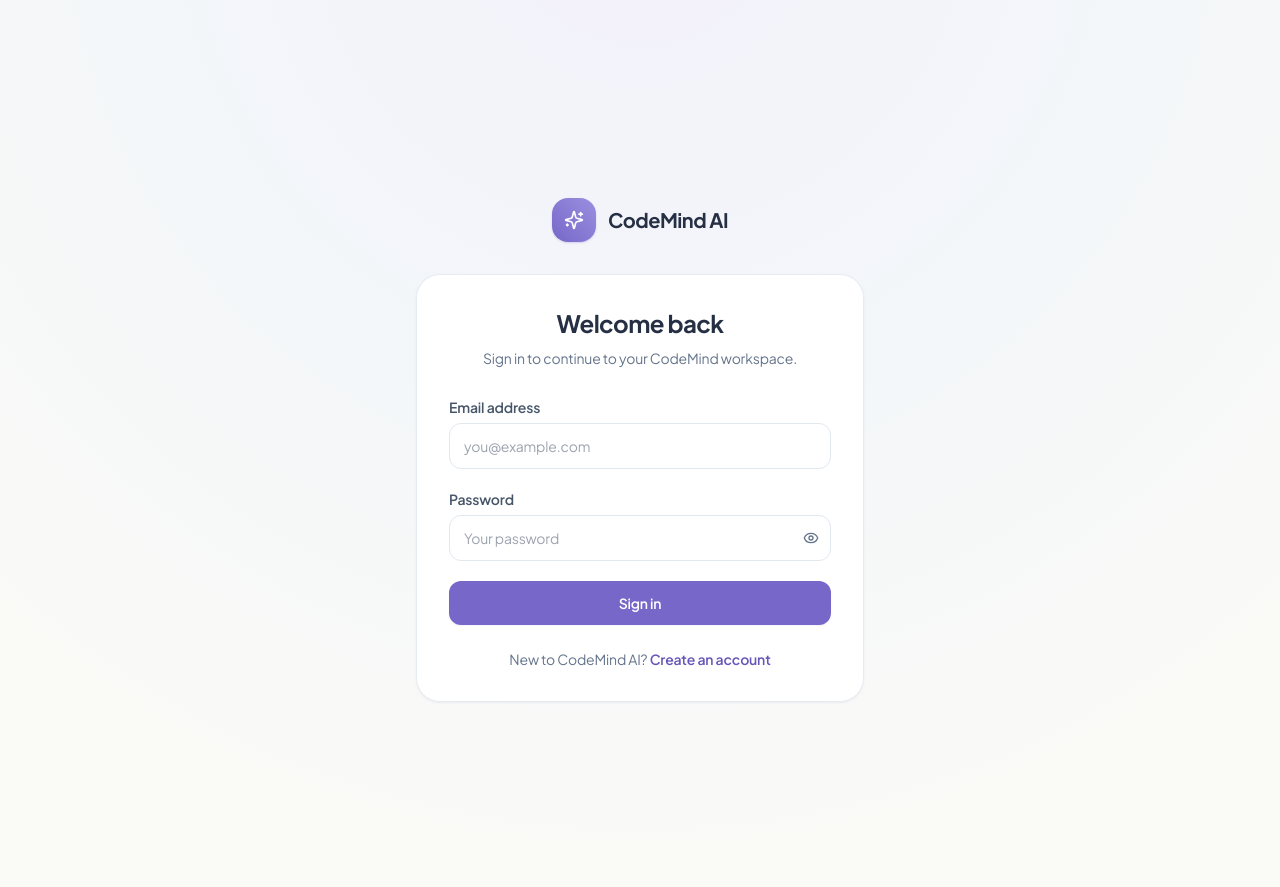
it: App › registers and navigates to the protected dashboard
Click the link "Create an account".
click(710, 659)  # box x1=650 y1=650 x2=771 y2=668
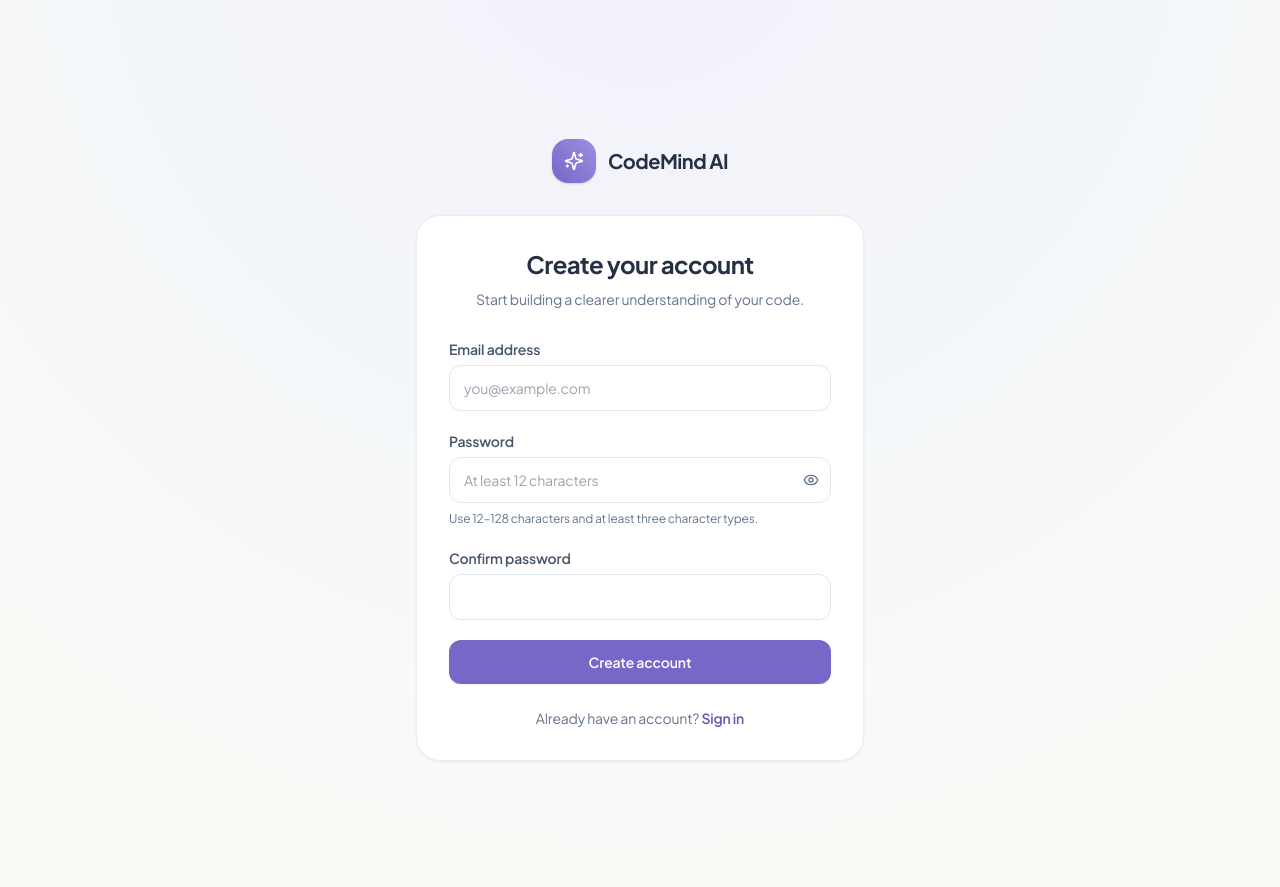
Type "new@example.test" into the field labelled "Email address".
click(640, 388); type("new@example.test")  # box x1=449 y1=365 x2=831 y2=411
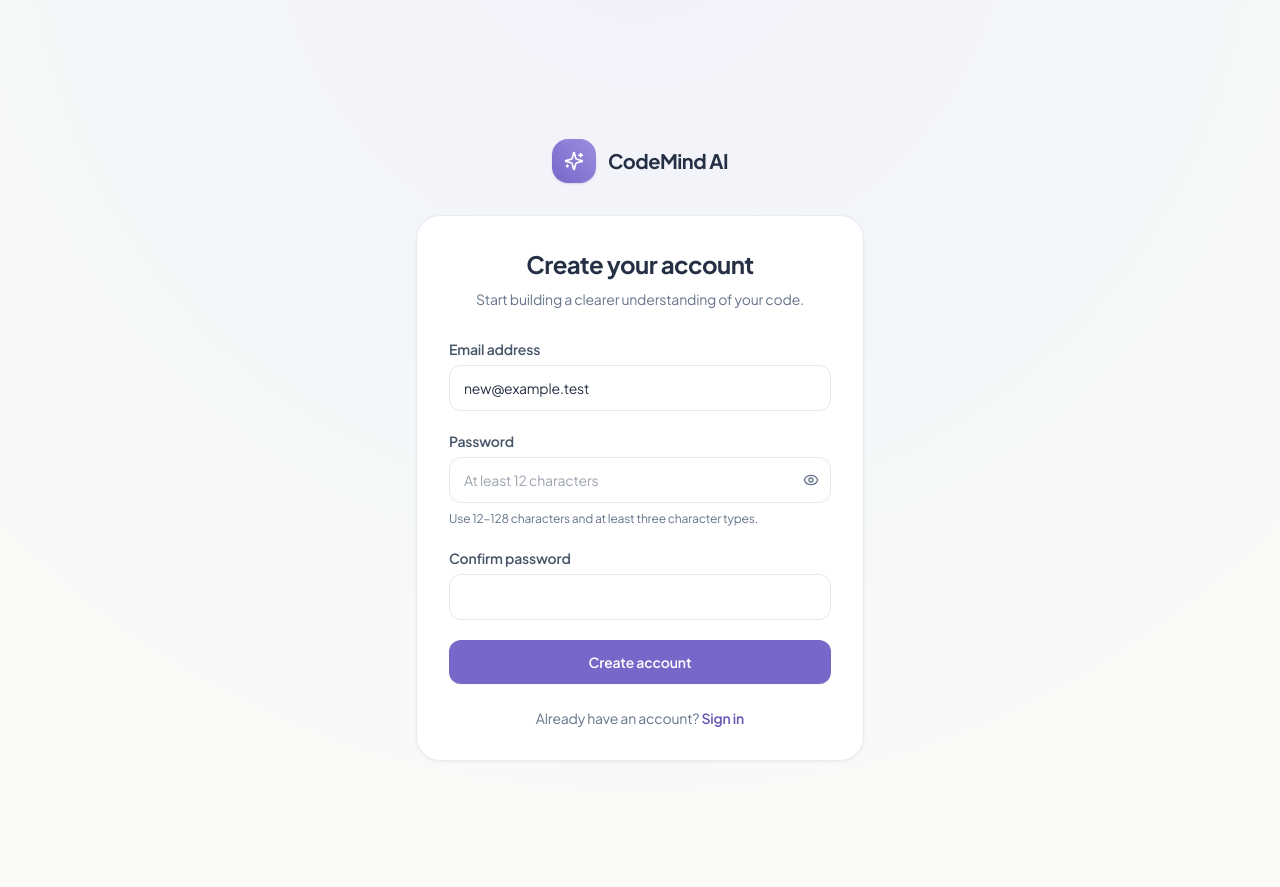
Type "StrongPassword123!" into the password field labelled "Password".
click(640, 480); type("StrongPassword123!")  # box x1=449 y1=457 x2=831 y2=503
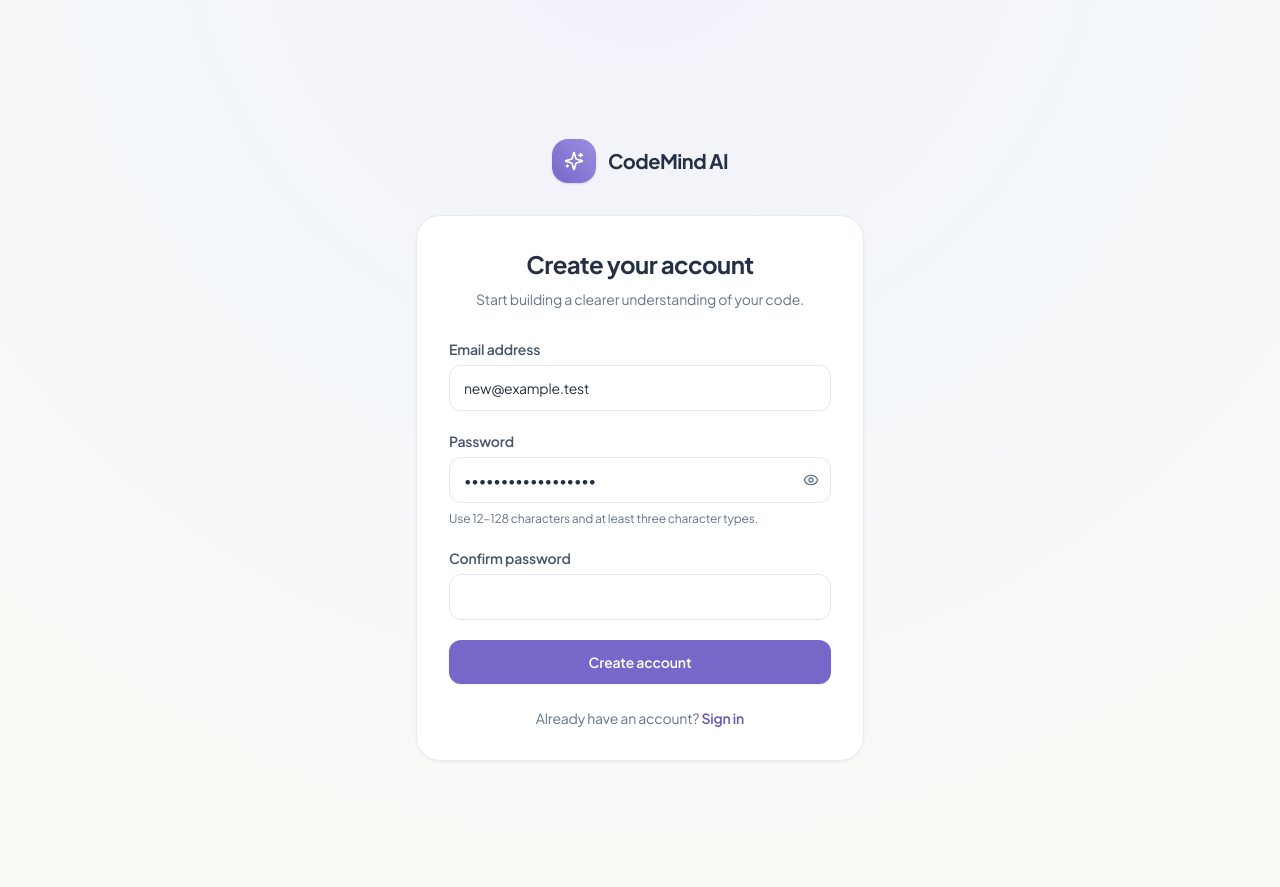
Type "StrongPassword123!" into the password field labelled "Confirm password".
click(640, 597); type("StrongPassword123!")  # box x1=449 y1=574 x2=831 y2=620
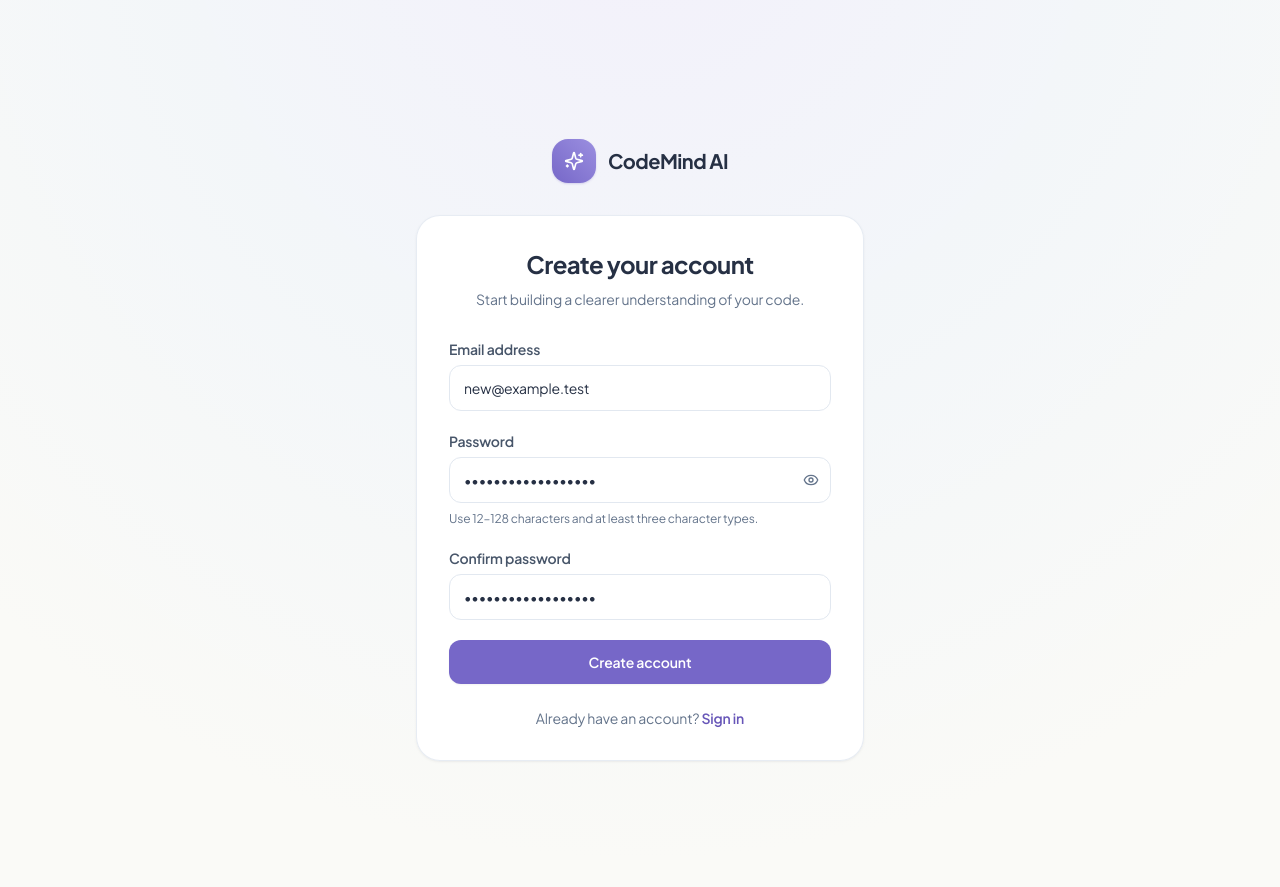
Click the button "Create account".
click(640, 662)  # box x1=449 y1=640 x2=831 y2=684
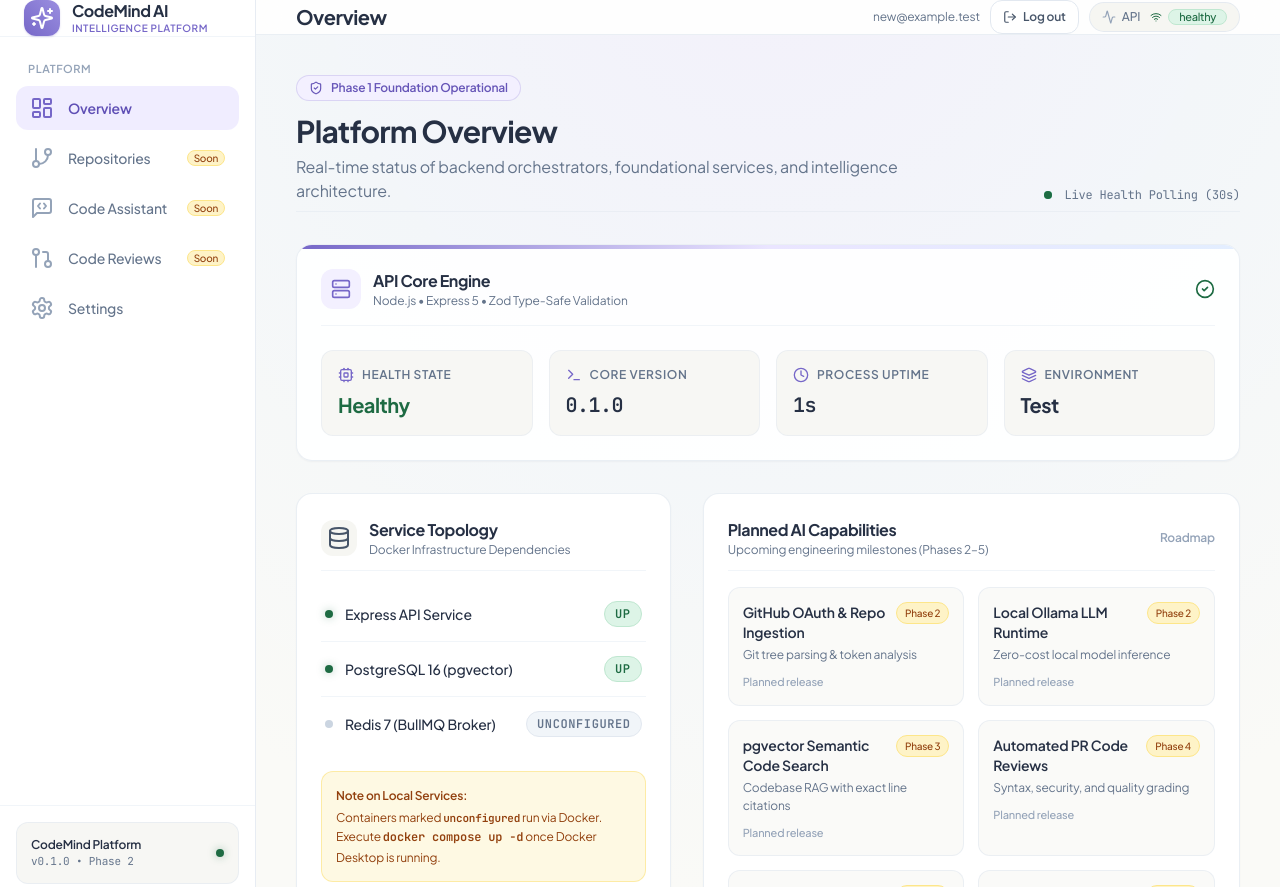
Now the navigation bar named "sidebar navigation" is shown, box x1=16 y1=62 x2=239 y2=320
Now the text "new@example.test" is shown, box x1=873 y1=9 x2=980 y2=25
